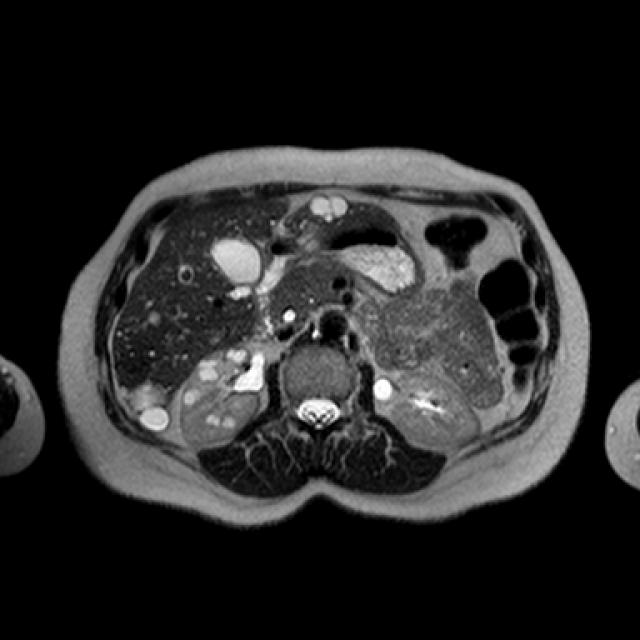sag: (178, 347, 261, 447)
sol: (373, 370, 480, 445)
